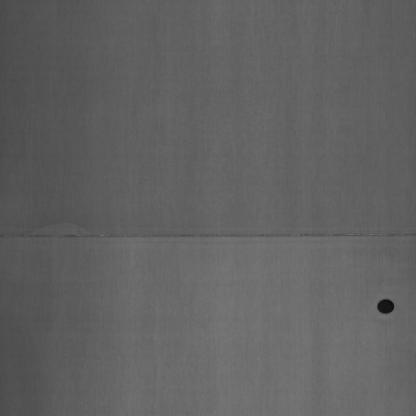punching_hole: (367, 292, 397, 320)
welding_line: (0, 220, 413, 253)
